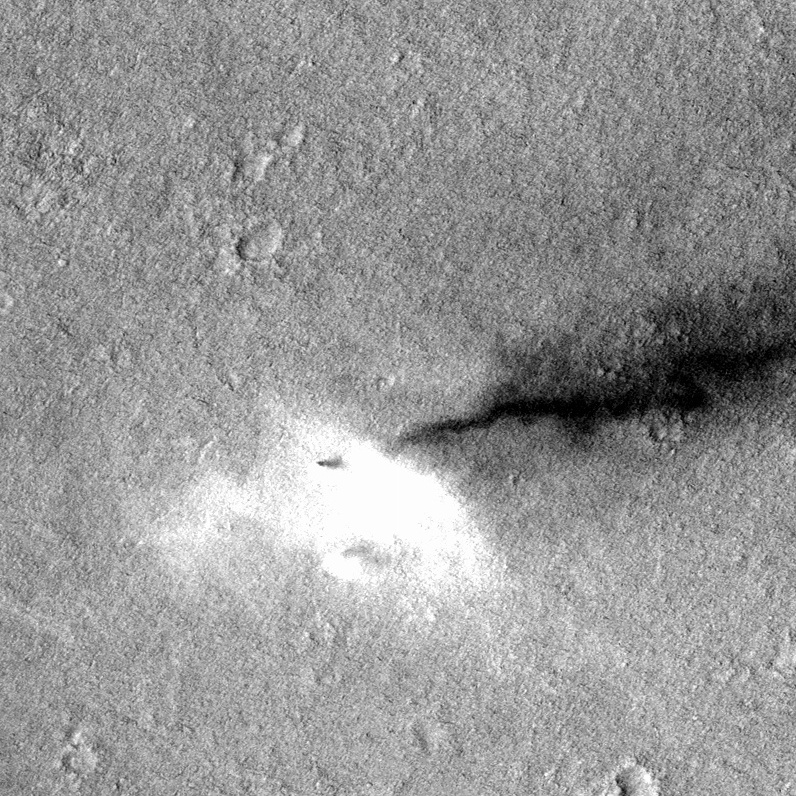dust_devil: (238, 253, 796, 590)
